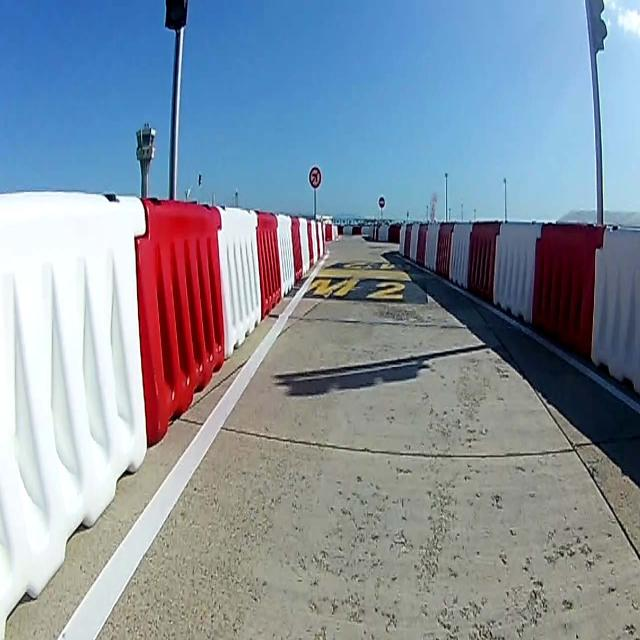girisyok: (378, 196, 385, 208)
soladonulmez: (309, 166, 322, 188)
